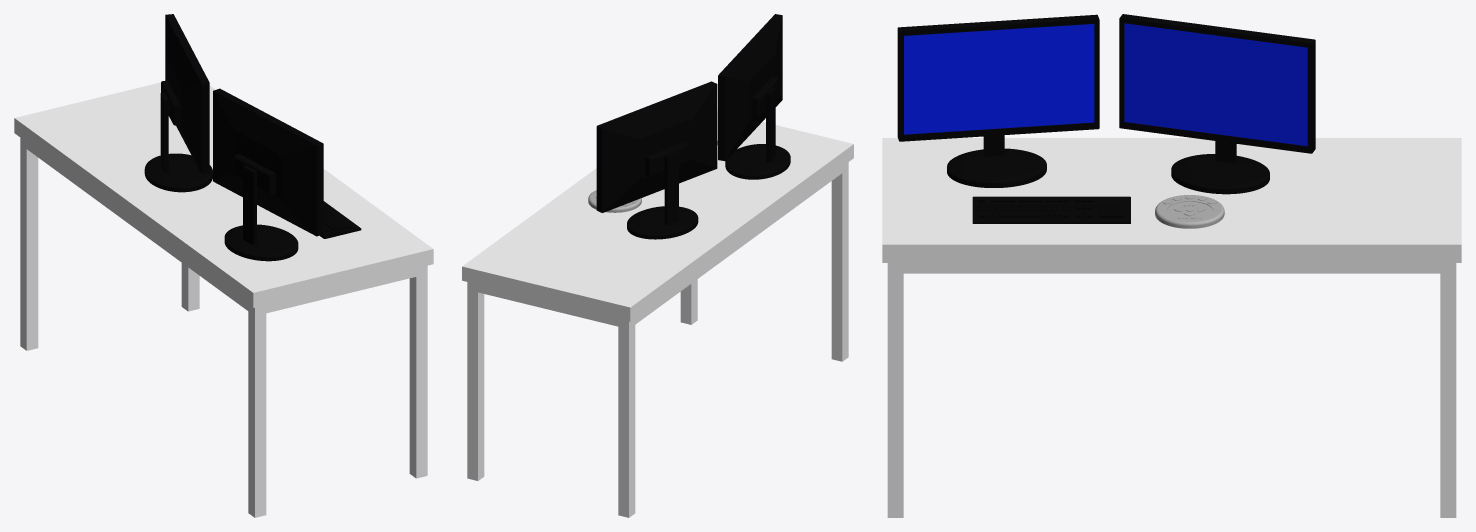
Rendered from control_console.glb.
3 views of the same model, side by side, from view 1: azimuth 30°, elevation 25°; view 2: azimuth 150°, elevation 25°; view 3: azimuth 270°, elevation 25° (orthographic). The views are drawn at different scales.
Bounding box in the file's own units: 0.6315 × 1.18 × 1.45.
